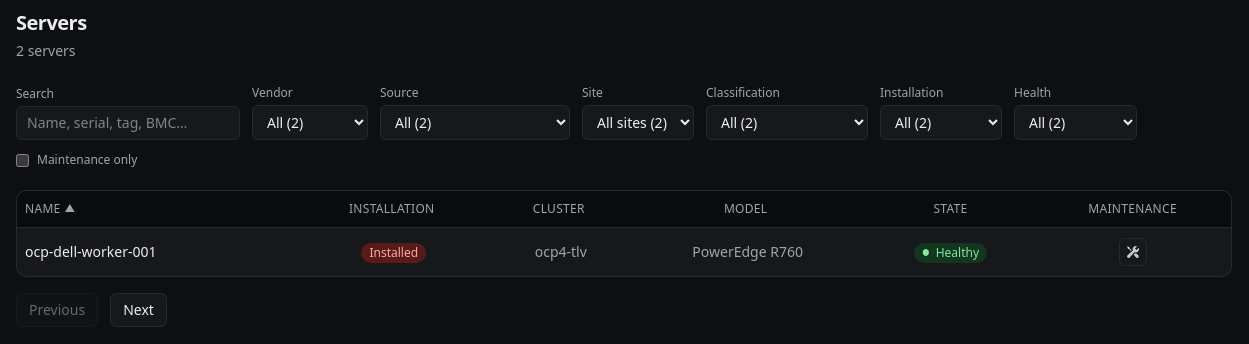
Test: InventoryPage › paginates with the next_cursor and disables Next once has_more is false
Expected: the link "ocp-dell-worker-001" is shown, [25, 242, 156, 261]
Click the button "Next" at (138, 310), box [110, 293, 167, 327]
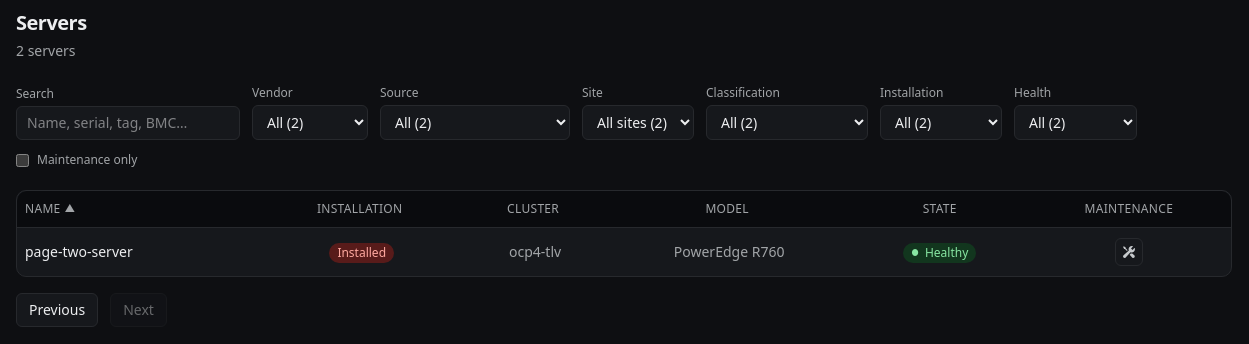
Result: the link "page-two-server" is shown at [25, 242, 133, 261]
Result: the button "Next" is disabled at [110, 293, 167, 327]
